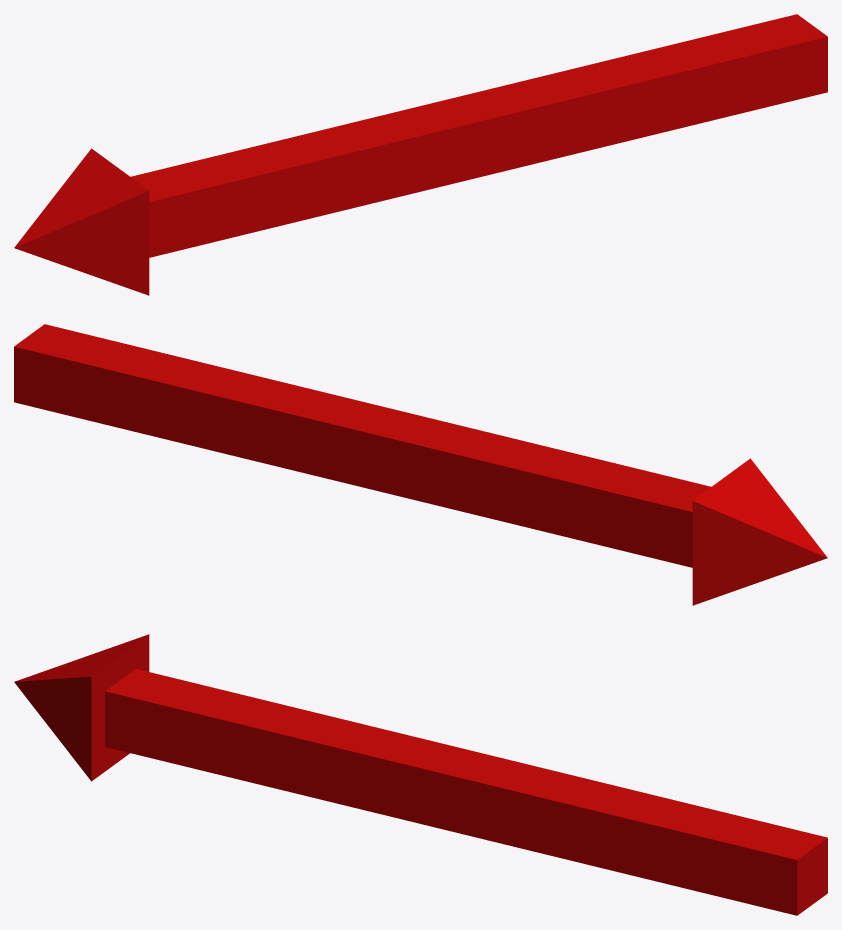
File: arrow.obj
The picture shows the model from 3 angles, top to bottom: view 1: azimuth 30°, elevation 25°; view 2: azimuth 150°, elevation 25°; view 3: azimuth 330°, elevation 25°; orthographic projection.
Parts seen in each view (by area): view 1: Cube, Cone; view 2: Cube, Cone; view 3: Cube, Cone.
Part boxes in pixels (bbox=[...]): Cube: bbox=[130, 14, 827, 257]; Cone: bbox=[14, 148, 149, 295]; Cube: bbox=[14, 324, 711, 567]; Cone: bbox=[692, 458, 827, 605]; Cube: bbox=[105, 669, 827, 915]; Cone: bbox=[14, 634, 149, 781].
Bounding box in the file's own units: 2.25 × 0.2828 × 0.2828.
